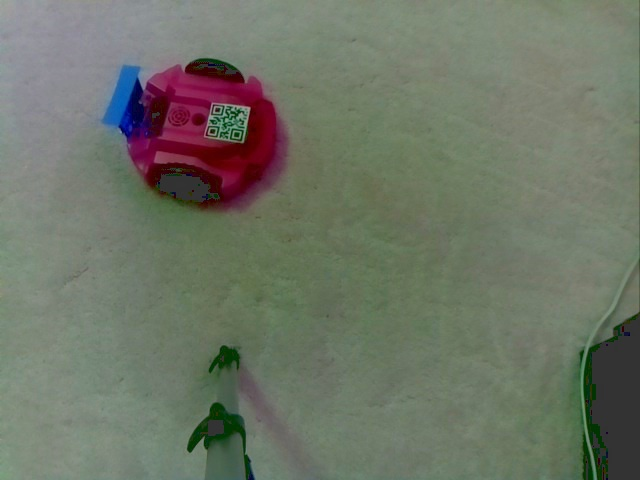board: (100, 63, 161, 141)
chassis: (101, 53, 283, 203)
